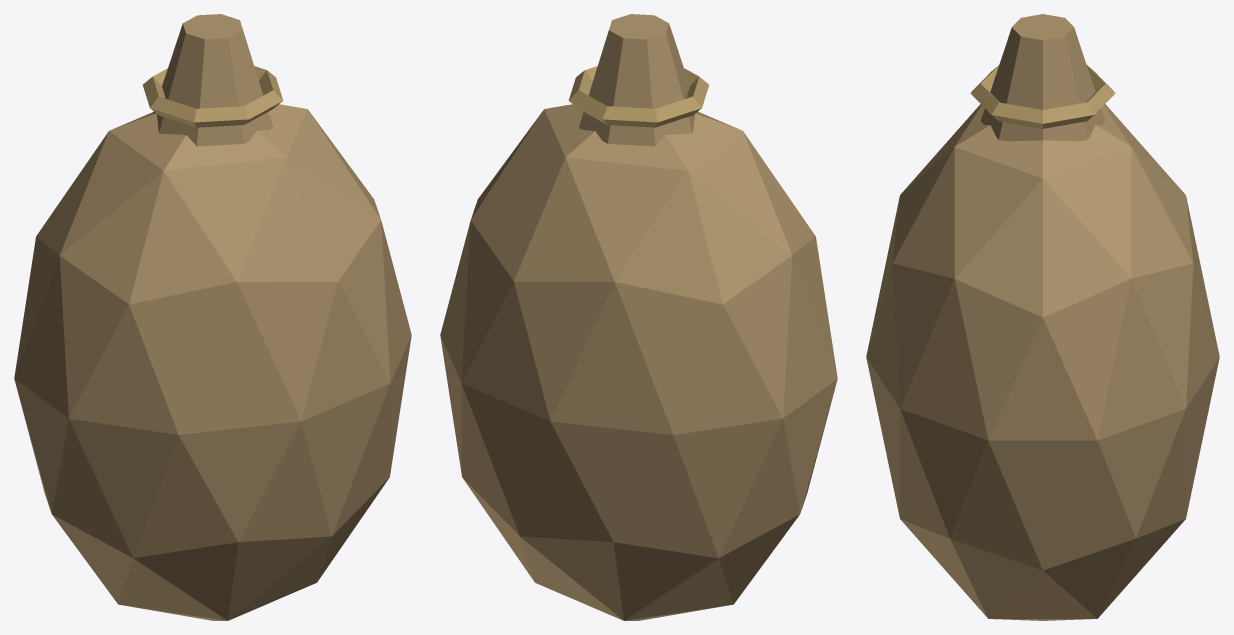
The model's file is grain_sack.glb.
3 views of the same model, side by side, from view 1: azimuth 30°, elevation 25°; view 2: azimuth 150°, elevation 25°; view 3: azimuth 270°, elevation 25° (orthographic).
Visible parts, largest first — view 1: grain_sack; view 2: grain_sack; view 3: grain_sack.
Boxes of the visible parts, bbox=[...] form: grain_sack: bbox=[14, 14, 411, 620]; grain_sack: bbox=[440, 14, 837, 620]; grain_sack: bbox=[866, 14, 1219, 620].
Size of the model in its own units: 0.3804 by 0.63 by 0.34.
